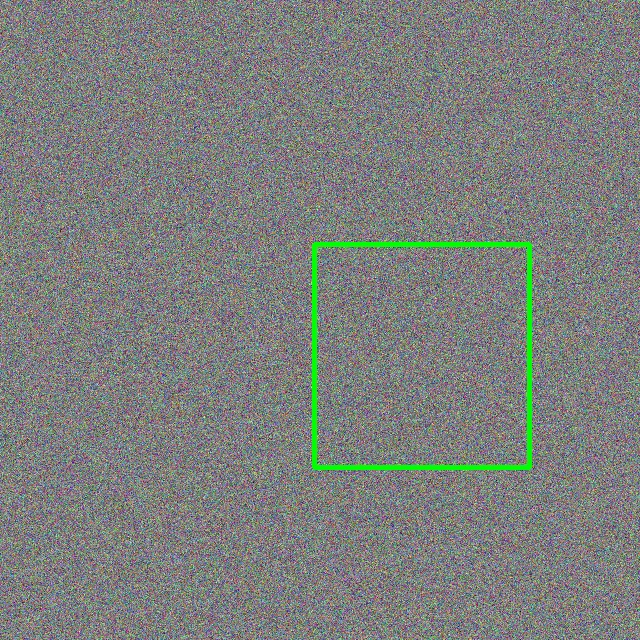base: (314, 244, 529, 467)
